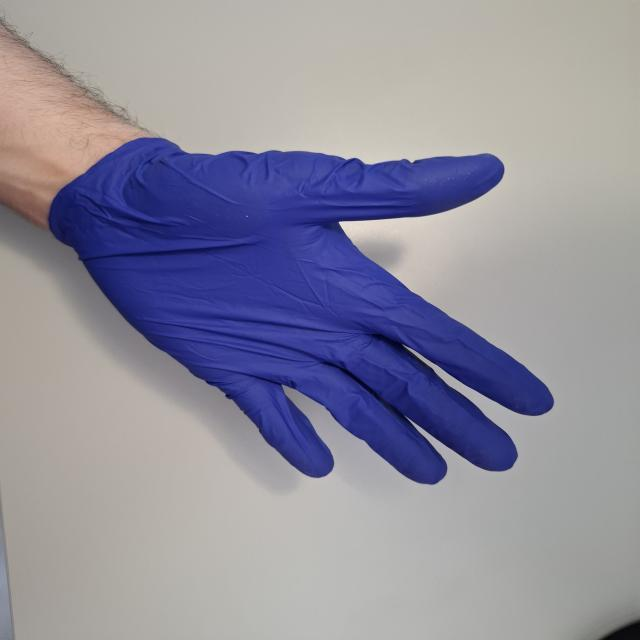glove_on: (47, 133, 561, 488)
